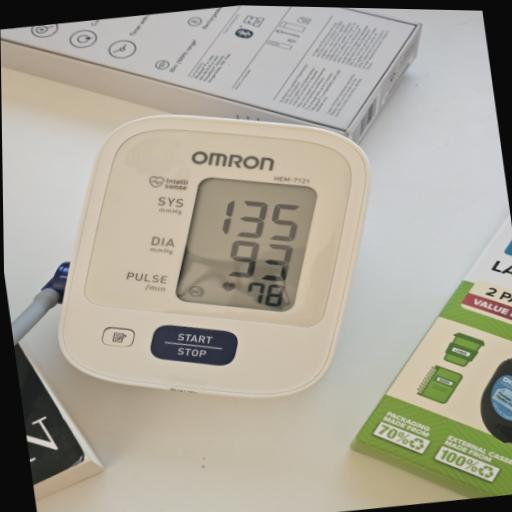lcd display: (159, 163, 335, 328)
